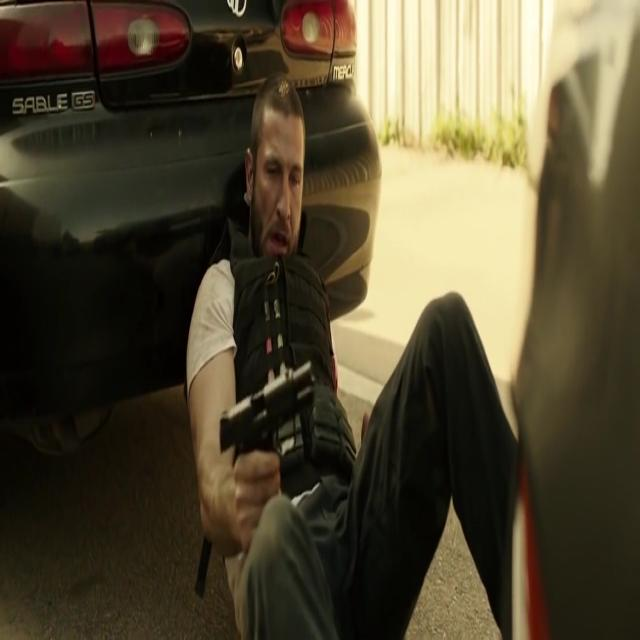Weapon: (216, 390, 341, 500)
